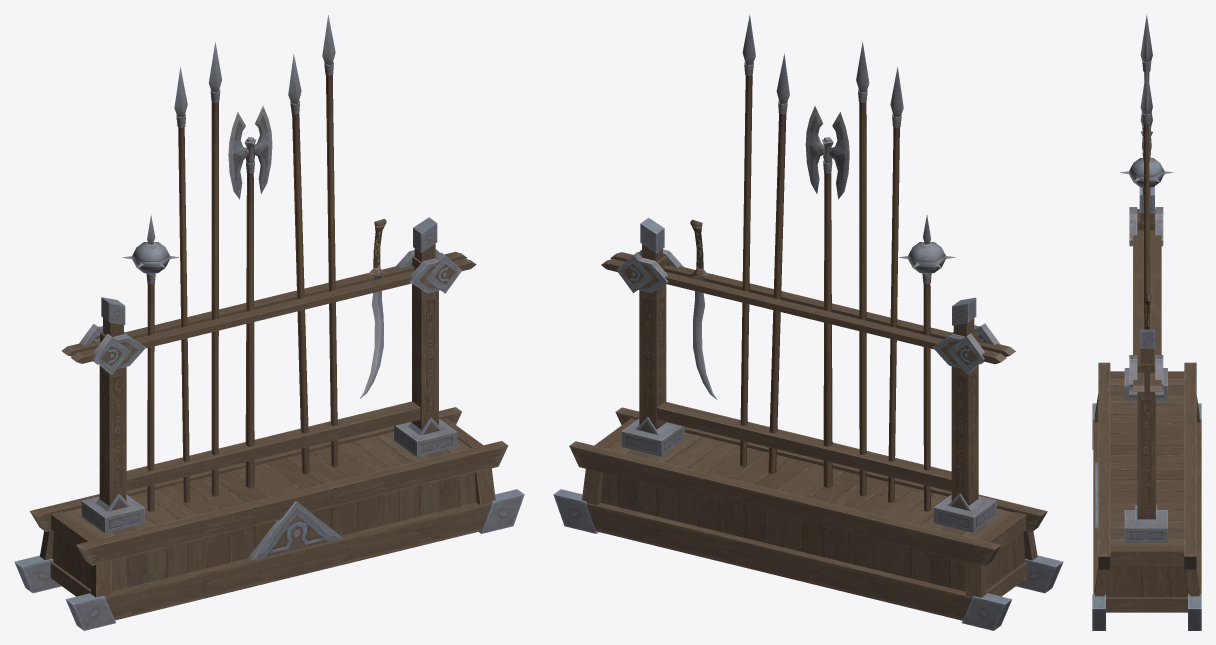
The model's file is Homeworld_Exterior_Xm_Decoration_Prop_WeaponRack_01_Lod0.fbx.
3 renders of one model, left to right at view 1: azimuth 30°, elevation 25°; view 2: azimuth 150°, elevation 25°; view 3: azimuth 270°, elevation 25°, orthographic. The views are drawn at different scales.
Parts seen in each view (by area): view 1: Homeworld_Exterior_Xm_Decoration_Prop_WeaponRack_01_Lod0; view 2: Homeworld_Exterior_Xm_Decoration_Prop_WeaponRack_01_Lod0; view 3: Homeworld_Exterior_Xm_Decoration_Prop_WeaponRack_01_Lod0.
Boxes of the visible parts, x1,y1,x2,y2 form: Homeworld_Exterior_Xm_Decoration_Prop_WeaponRack_01_Lod0: (14,15,524,630); Homeworld_Exterior_Xm_Decoration_Prop_WeaponRack_01_Lod0: (553,14,1063,630); Homeworld_Exterior_Xm_Decoration_Prop_WeaponRack_01_Lod0: (1092,14,1201,630).
Bounding box in the file's own units: 3.16 × 3.54 × 0.7111.
